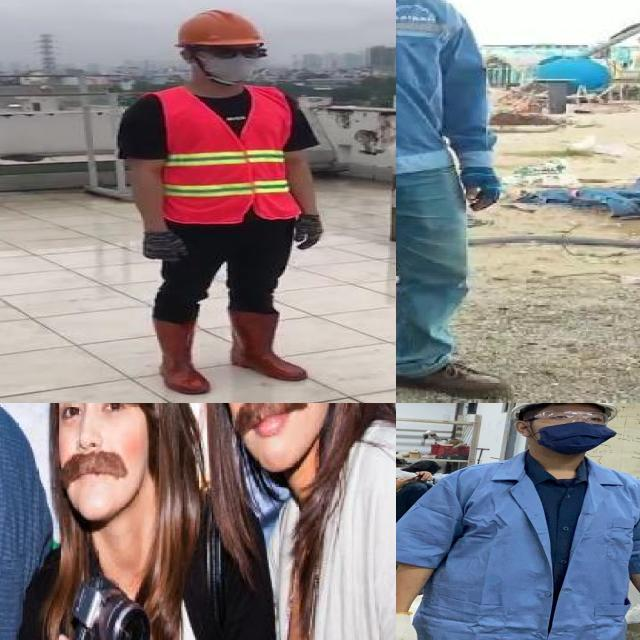boots: (225, 308, 306, 384), (144, 310, 213, 396)
face_mask: (529, 407, 612, 452), (200, 42, 266, 85)
face_nomask: (53, 403, 148, 496), (214, 403, 323, 440)
glasses: (522, 409, 612, 429), (208, 42, 268, 62)
hand_glove: (454, 165, 504, 213), (134, 230, 191, 262), (301, 215, 328, 256), (396, 608, 425, 640)
hand_noglove: (415, 470, 433, 481), (396, 476, 413, 487)
head_helmet: (170, 6, 264, 49), (507, 403, 619, 412)
person: (114, 4, 330, 396), (396, 403, 640, 640), (28, 403, 219, 640), (205, 403, 396, 640), (396, 0, 504, 403), (396, 451, 431, 527)
shoes: (396, 343, 514, 402)
vest: (144, 88, 302, 223)
